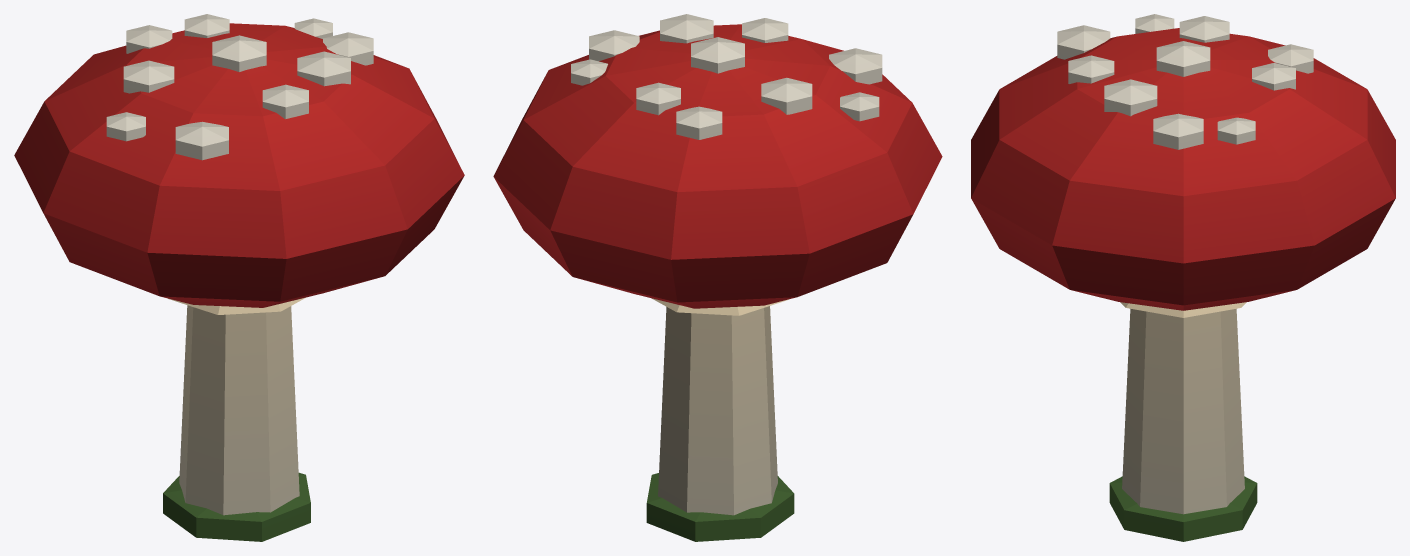
The model's file is toadstool_big.glb.
The picture shows the model from 3 angles, left to right: view 1: azimuth 30°, elevation 25°; view 2: azimuth 150°, elevation 25°; view 3: azimuth 270°, elevation 25°; orthographic projection.
Visible parts, largest first — view 1: toadstool_big; view 2: toadstool_big; view 3: toadstool_big.
Boxes of the visible parts, x1,y1,x2,y2 form: toadstool_big: (14, 14, 464, 541); toadstool_big: (493, 14, 942, 541); toadstool_big: (971, 14, 1395, 541).
Bounding box in the file's own units: 2.3 × 2.69 × 2.19.
